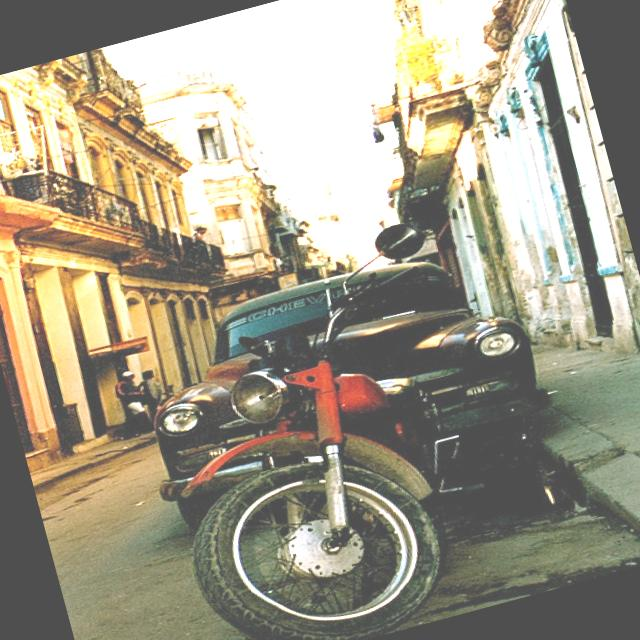Vehicle: (121, 217, 520, 640), (119, 227, 556, 535)
